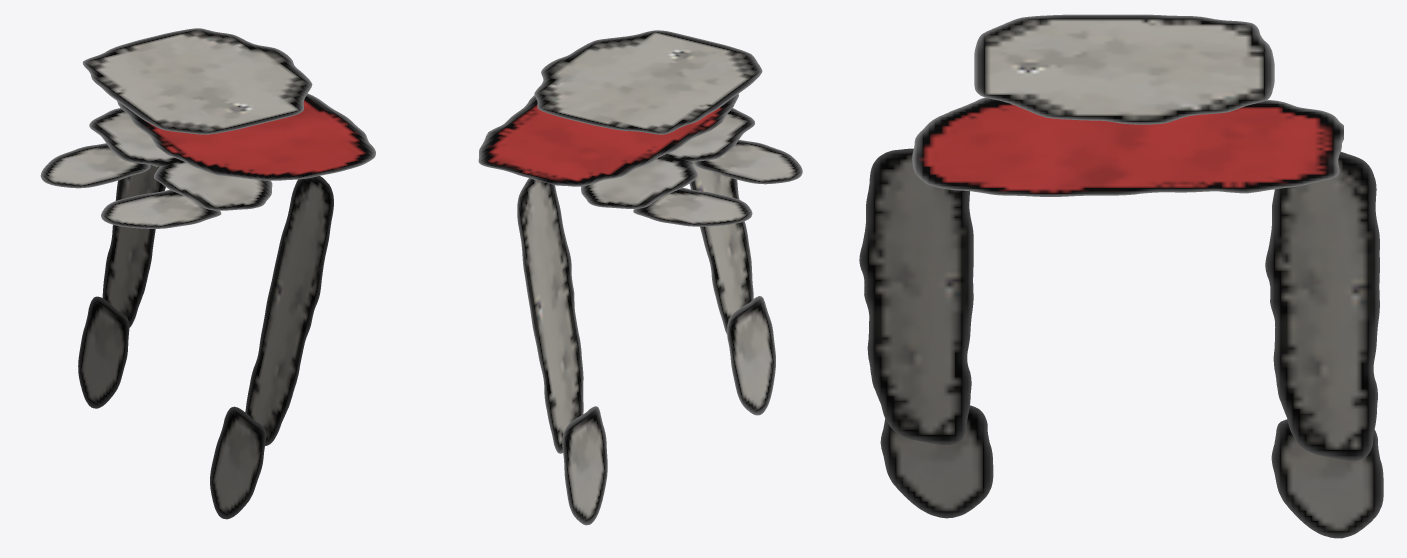
The model's file is CharactersRed.fbx.
3 renders of one model, left to right at view 1: azimuth 30°, elevation 25°; view 2: azimuth 150°, elevation 25°; view 3: azimuth 270°, elevation 25°, orthographic. The views are drawn at different scales.
Visible parts, largest first — view 1: Head, ArmL, Body, ArmR, HandL, HandR, LegL, FootL, FootR, LegR; view 2: Head, Body, ArmR, ArmL, HandL, HandR, LegR, FootR, FootL, LegL; view 3: Body, ArmR, Head, ArmL, HandR, HandL.
Boxes of the visible parts, <box> form: Head: <box>82,28,312,134</box>; ArmL: <box>245,176,333,445</box>; Body: <box>117,93,375,180</box>; ArmR: <box>102,165,165,327</box>; HandL: <box>210,406,266,519</box>; HandR: <box>78,296,129,408</box>; LegL: <box>154,161,272,210</box>; FootL: <box>101,189,221,228</box>; FootR: <box>40,143,150,188</box>; LegR: <box>89,108,181,166</box>; Head: <box>534,30,762,134</box>; Body: <box>478,94,738,186</box>; ArmR: <box>517,178,583,453</box>; ArmL: <box>689,162,753,334</box>; HandL: <box>727,296,775,415</box>; HandR: <box>562,406,607,525</box>; LegR: <box>581,155,697,208</box>; FootR: <box>633,187,752,226</box>; FootL: <box>694,140,802,184</box>; LegL: <box>661,108,754,161</box>; Body: <box>912,97,1343,196</box>; ArmR: <box>1265,152,1379,460</box>; Head: <box>974,14,1274,124</box>; ArmL: <box>859,148,973,444</box>; HandR: <box>1271,419,1383,538</box>; HandL: <box>880,405,993,518</box>.
Size of the model in its own units: 0.6158 by 0.88 by 0.8657.
1 material, 1 textured.
